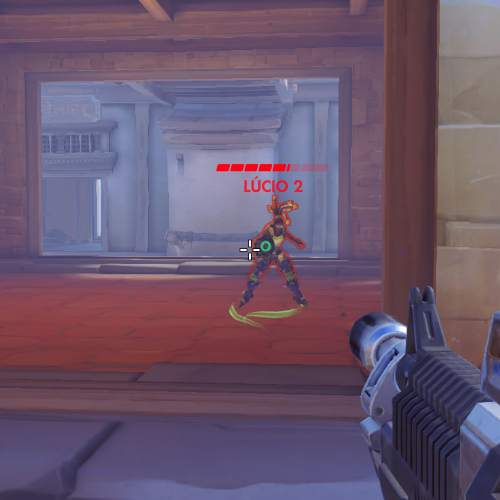hpbar: (216, 163, 330, 173)
